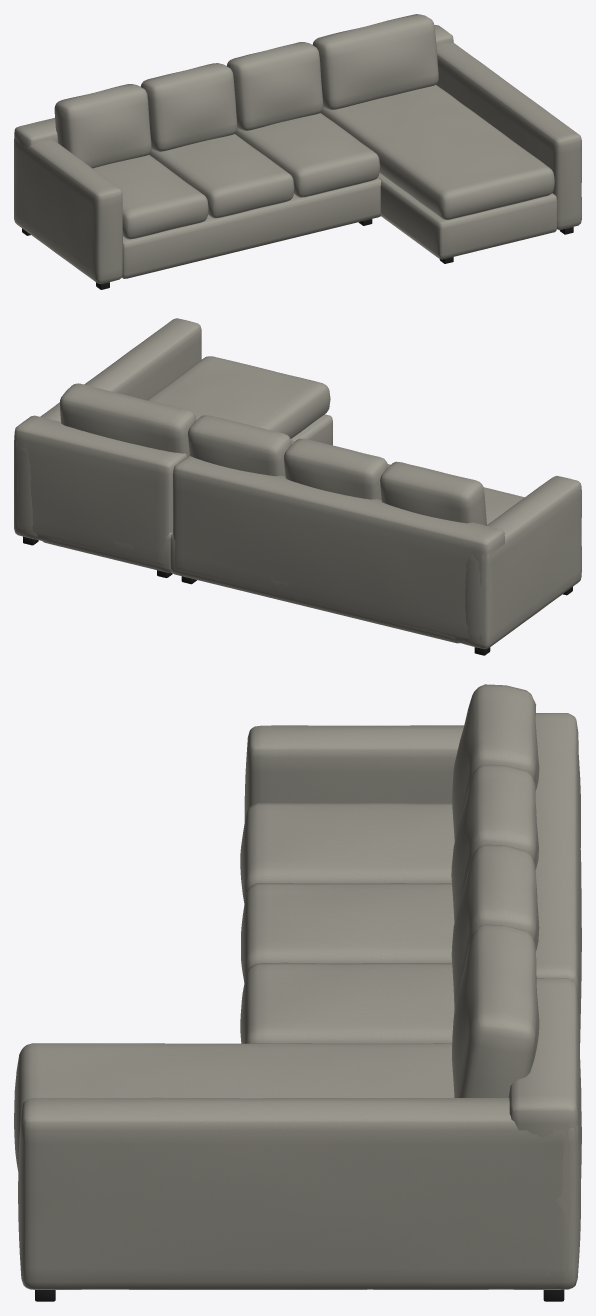
The model's file is sofa_chaise_derecha_3p.glb.
3 views of the same model, one above another, from view 1: azimuth 30°, elevation 25°; view 2: azimuth 150°, elevation 25°; view 3: azimuth 270°, elevation 25° (orthographic). The views are drawn at different scales.
Visible parts, largest first — view 1: sofa_chaise_derecha_3p; view 2: sofa_chaise_derecha_3p; view 3: sofa_chaise_derecha_3p.
Part boxes in pixels (left/top/right/bottom): sofa_chaise_derecha_3p: left=14, top=14, right=581, bottom=289; sofa_chaise_derecha_3p: left=14, top=318, right=581, bottom=655; sofa_chaise_derecha_3p: left=14, top=684, right=581, bottom=1301.
Bounding box in the file's own units: 2.71 × 0.8267 × 1.63.
Materials: 2 (1 with a texture image).
